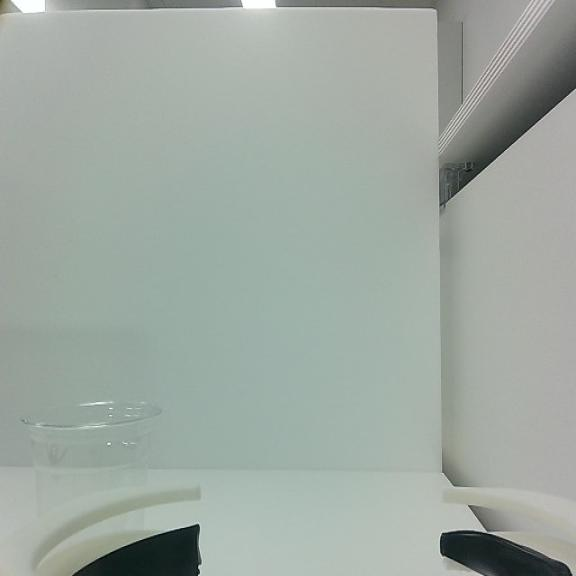Plastik: (20, 399, 166, 516)
